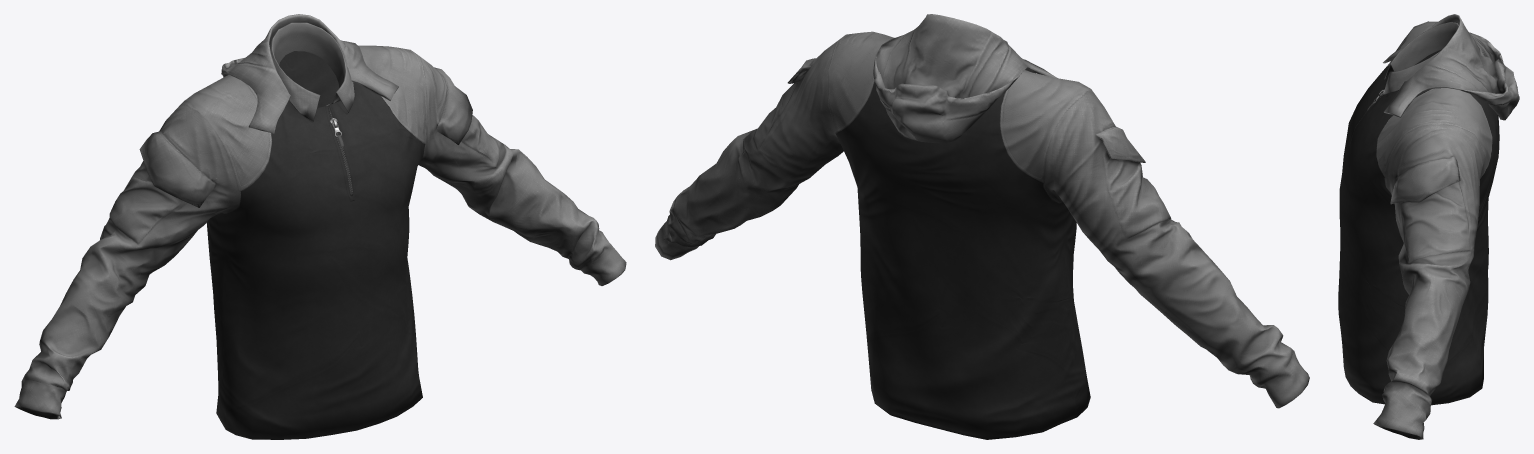
File: Sviter Low Poly Final.fbx
3 renders of one model, left to right at view 1: azimuth 30°, elevation 25°; view 2: azimuth 150°, elevation 25°; view 3: azimuth 270°, elevation 25°, orthographic. The views are drawn at different scales.
Visible parts, largest first — view 1: Low Poly Sviter; view 2: Low Poly Sviter; view 3: Low Poly Sviter.
Part boxes in pixels (left/top/right/bottom): Low Poly Sviter: left=14, top=14, right=626, bottom=439; Low Poly Sviter: left=655, top=14, right=1309, bottom=439; Low Poly Sviter: left=1338, top=14, right=1519, bottom=439.
Size of the model in its own units: 118 by 70.4 by 33.12.
2 materials, 2 textured.
